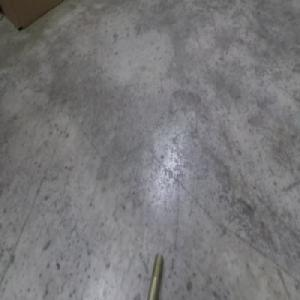Bolt: (149, 251, 164, 300)
